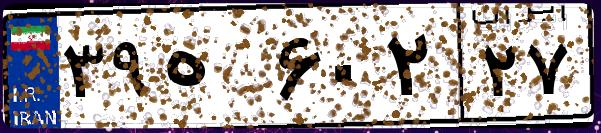0: (330, 28, 385, 110)
2: (385, 28, 445, 110), (475, 38, 525, 113)
3: (57, 26, 110, 100)
6: (270, 28, 330, 110)
7: (525, 38, 570, 115)
9: (110, 28, 158, 98)
ه: (158, 20, 270, 120)
